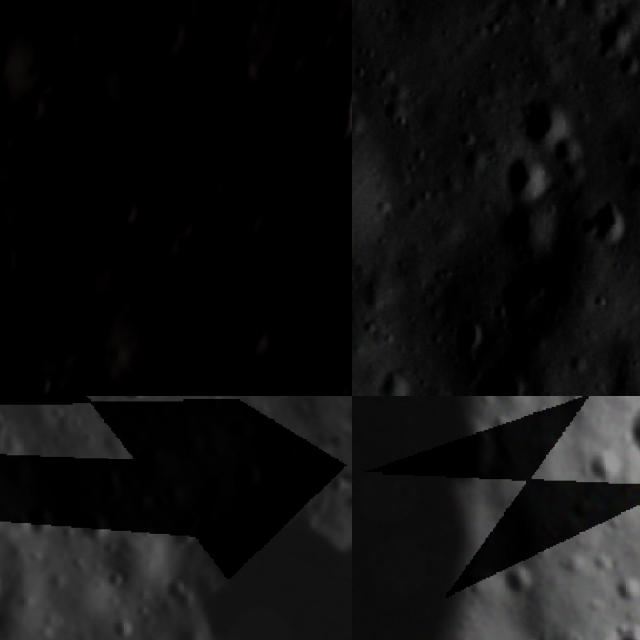crater: (137, 467, 352, 640), (28, 37, 128, 178), (262, 47, 352, 171), (209, 176, 282, 253), (486, 199, 556, 267), (70, 288, 128, 360), (571, 192, 634, 257), (137, 0, 197, 66), (514, 85, 575, 147), (496, 143, 558, 203), (129, 197, 191, 254), (491, 264, 545, 326), (464, 354, 540, 396), (66, 493, 124, 545), (230, 310, 276, 368), (219, 448, 271, 498), (440, 304, 486, 358), (0, 279, 41, 337), (119, 365, 193, 396), (218, 260, 259, 312), (102, 186, 138, 231), (500, 565, 536, 598), (112, 396, 163, 411), (0, 398, 14, 444), (618, 616, 640, 640)
